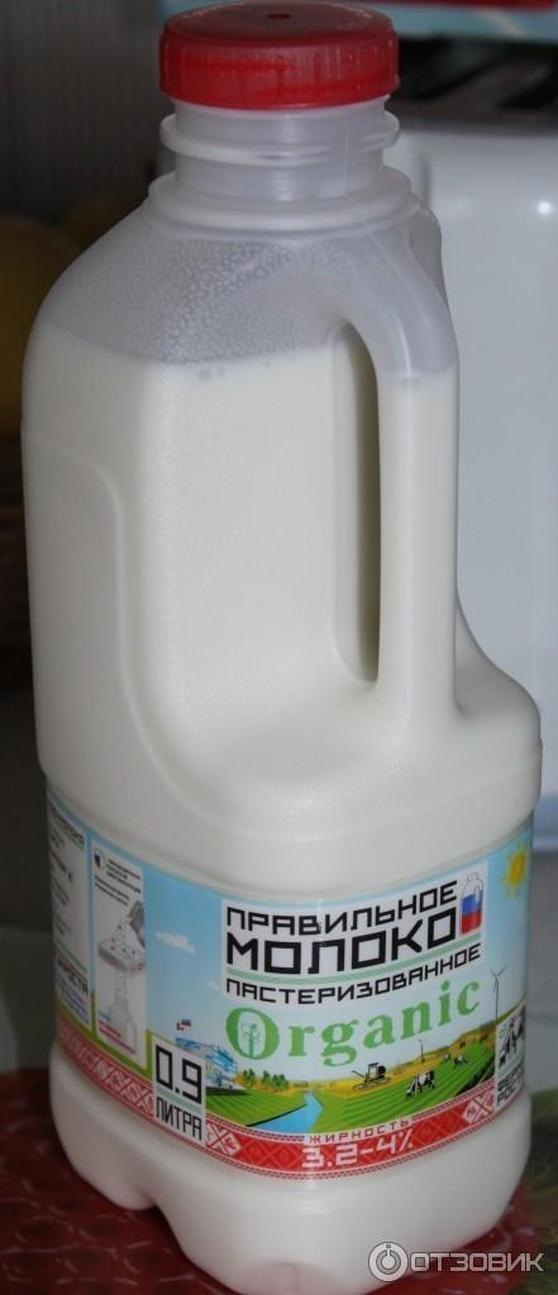milk: (41, 6, 544, 1280)
